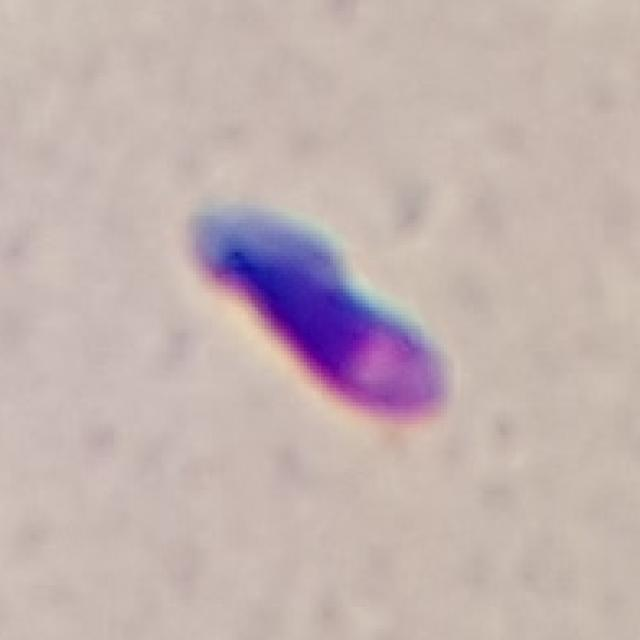non-sperm: (188, 203, 446, 419)
